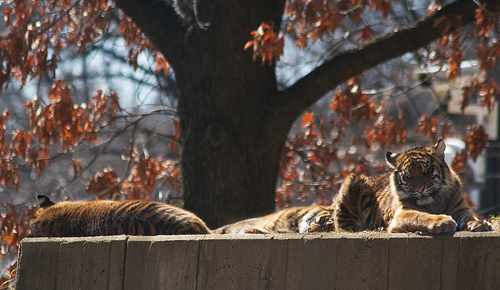Tigre: (348, 143, 495, 252)
